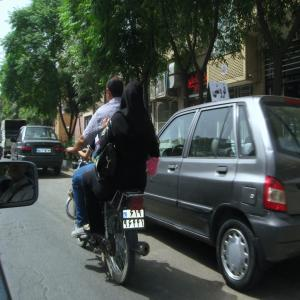Vehicle-registration-plate: (122, 210, 146, 231), (37, 149, 52, 155)
